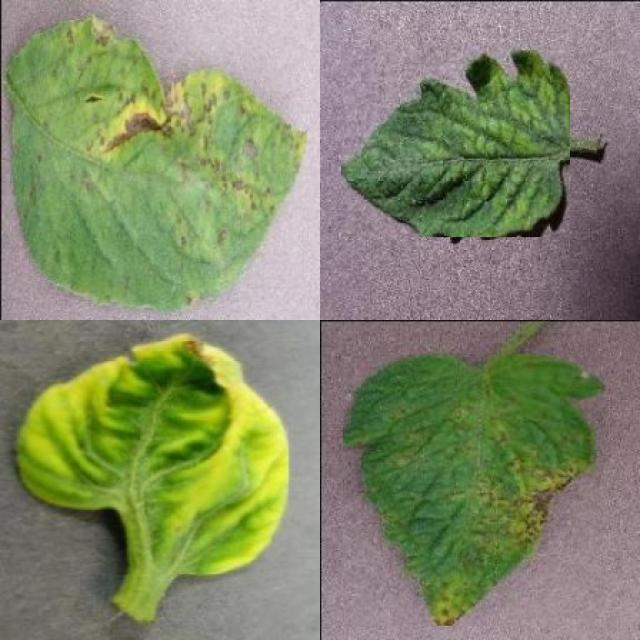Mosaic Virus: (340, 46, 570, 238)
Septoria: (7, 16, 306, 313), (344, 355, 606, 625)
Yellow Leaf Curl Virus: (15, 330, 289, 574)
